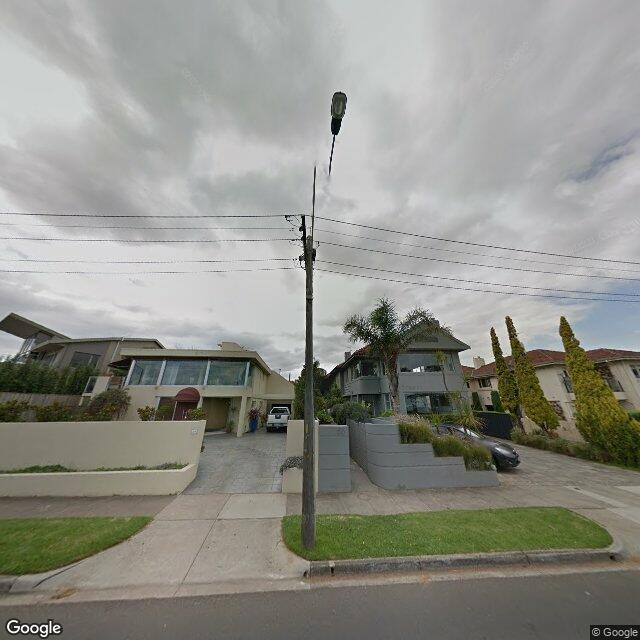crossarm: (286, 213, 320, 270)
streetlight: (310, 92, 348, 250)
timber-pole: (300, 234, 315, 544)
